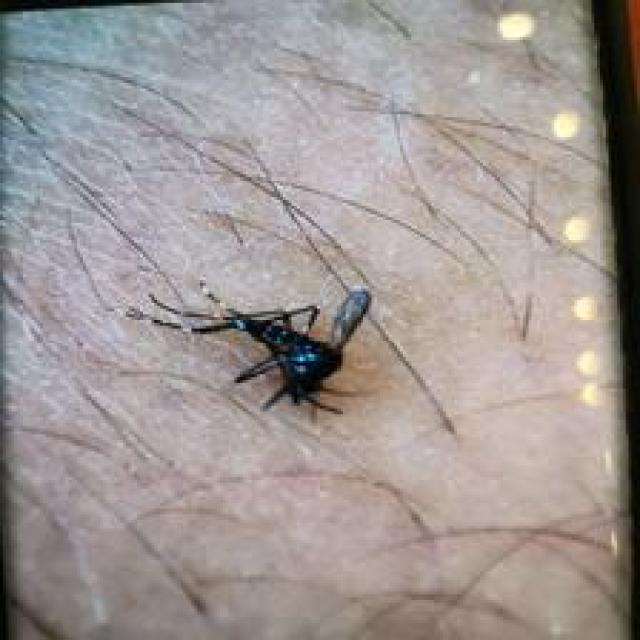Aedes albopictus: (126, 280, 374, 417)
